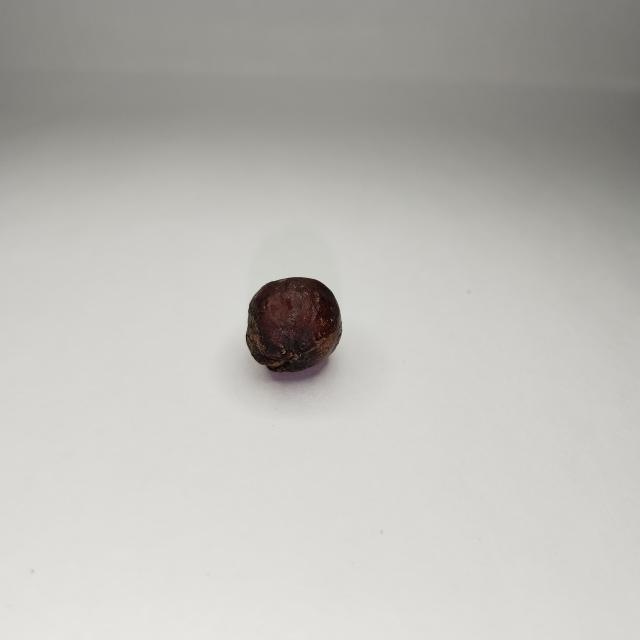Danado: (247, 277, 341, 372)
